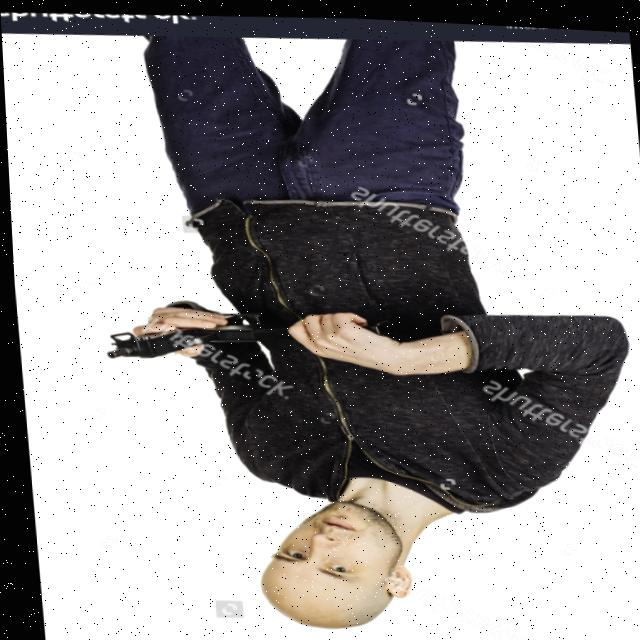firearm: (96, 303, 301, 366)
